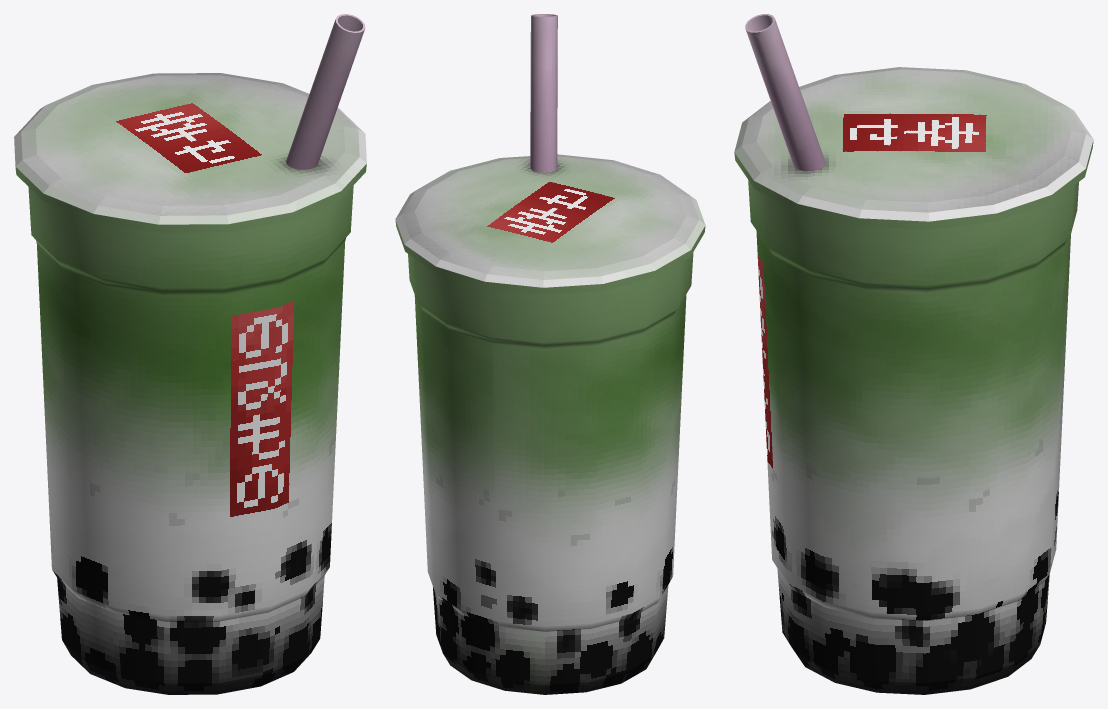
File: matcha_bubble_tea.glb
3 views of the same model, side by side, from view 1: azimuth 30°, elevation 25°; view 2: azimuth 150°, elevation 25°; view 3: azimuth 270°, elevation 25° (orthographic). The views are drawn at different scales.
Parts seen in each view (by area): view 1: pCylinder17; view 2: pCylinder17; view 3: pCylinder17.
Boxes of the visible parts, x1=… form: pCylinder17: x1=14, y1=14, x2=366, y2=694; pCylinder17: x1=395, y1=14, x2=705, y2=694; pCylinder17: x1=734, y1=14, x2=1093, y2=694.
Size of the model in its own units: 0.0162 by 0.033 by 0.0162.
1 material, 1 textured.
